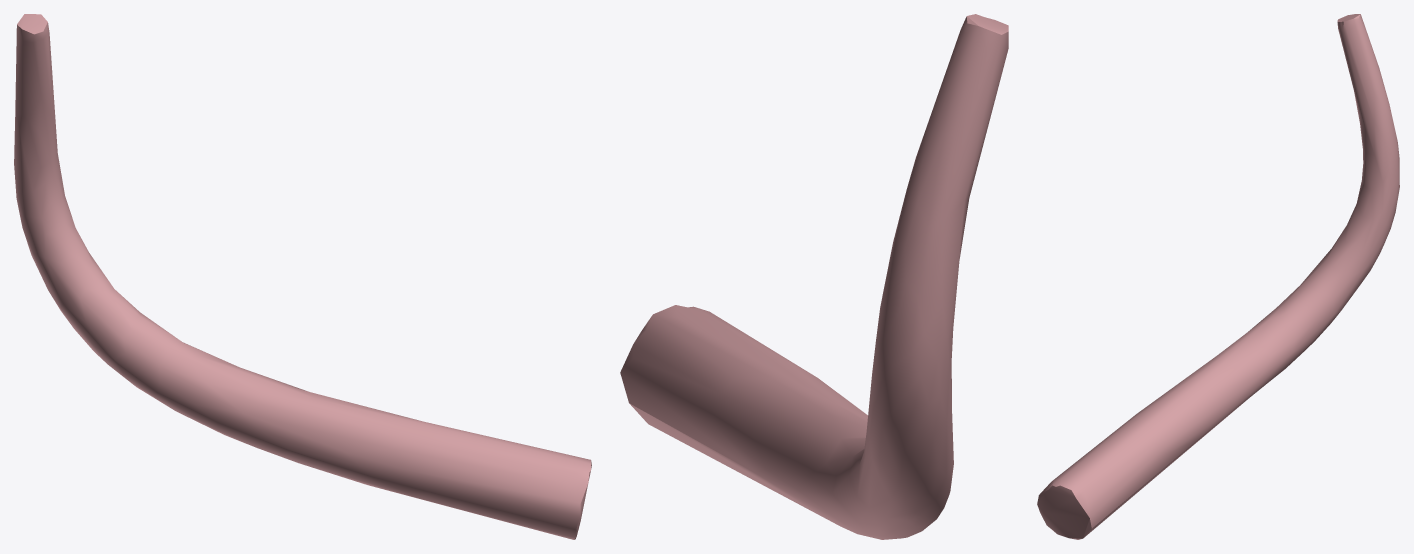
The model's file is fma68213_fj2458.glb.
The picture shows the model from 3 angles, left to right: view 1: azimuth 30°, elevation 25°; view 2: azimuth 150°, elevation 25°; view 3: azimuth 270°, elevation 25°; orthographic projection. The views are drawn at different scales.
Visible parts, largest first — view 1: FMA68213_FJ2458; view 2: FMA68213_FJ2458; view 3: FMA68213_FJ2458.
Boxes of the visible parts, <box> form: FMA68213_FJ2458: <box>14,14,591,539</box>; FMA68213_FJ2458: <box>620,14,1008,539</box>; FMA68213_FJ2458: <box>1037,14,1399,539</box>.
Bounding box in the file's own units: 0.0432 × 0.0485 × 0.0419.
